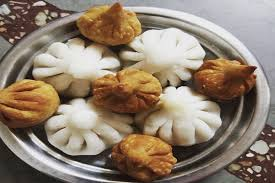modak: (30, 38, 120, 97), (47, 98, 133, 154), (143, 85, 224, 144), (128, 26, 207, 85), (187, 47, 262, 100), (90, 67, 171, 116), (1, 78, 62, 131), (114, 134, 175, 181), (77, 3, 144, 44)
